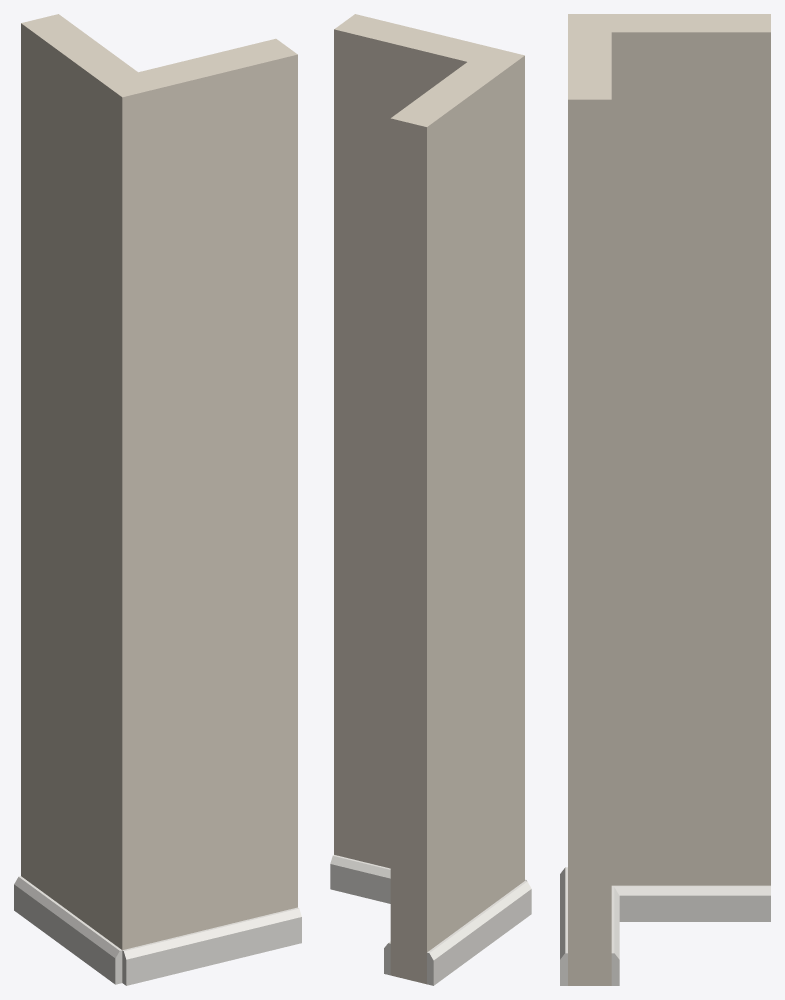
File: SM_LPI_Struct_Corner_01.fbx
3 views of the same model, side by side, from view 1: azimuth 30°, elevation 25°; view 2: azimuth 150°, elevation 25°; view 3: azimuth 270°, elevation 25° (orthographic). The views are drawn at different scales.
Parts seen in each view (by area): view 1: SM_LPI_Struct_Corner_01; view 2: SM_LPI_Struct_Corner_01; view 3: SM_LPI_Struct_Corner_01.
Boxes of the visible parts, x1,y1,x2,y2 form: SM_LPI_Struct_Corner_01: (14,14,301,985); SM_LPI_Struct_Corner_01: (330,14,531,985); SM_LPI_Struct_Corner_01: (560,14,770,985).
Bounding box in the file's own units: 0.582 × 2.7 × 0.582.
